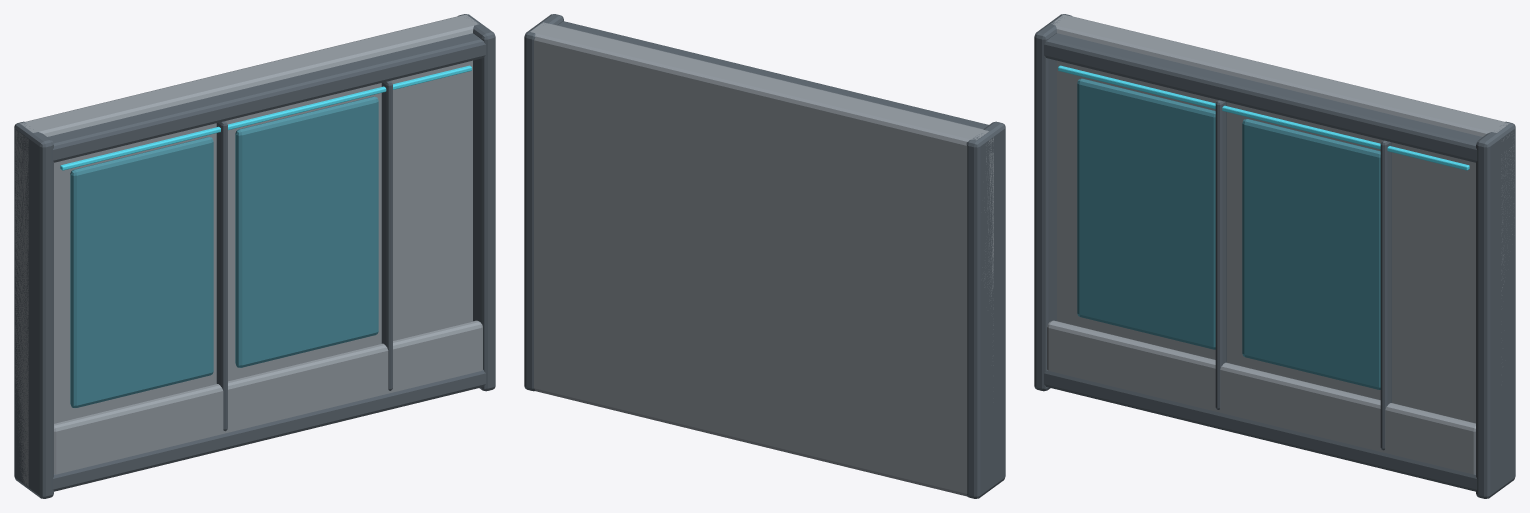
The model's file is 2_Wall.fbx.
The picture shows the model from 3 angles, left to right: view 1: azimuth 30°, elevation 25°; view 2: azimuth 150°, elevation 25°; view 3: azimuth 330°, elevation 25°; orthographic projection.
Visible parts, largest first — view 1: Body; view 2: Body; view 3: Body.
Boxes of the visible parts, bbox=[...] form: Body: bbox=[14, 14, 495, 498]; Body: bbox=[524, 14, 1005, 498]; Body: bbox=[1034, 14, 1515, 498].
Size of the model in its own units: 4 by 3 by 0.45.
